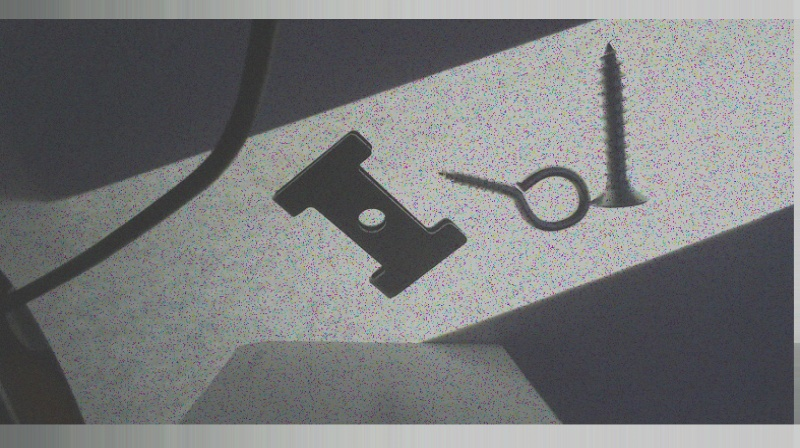O001: (436, 165, 591, 231)
O002: (272, 129, 466, 297)
S001: (589, 41, 654, 208)
